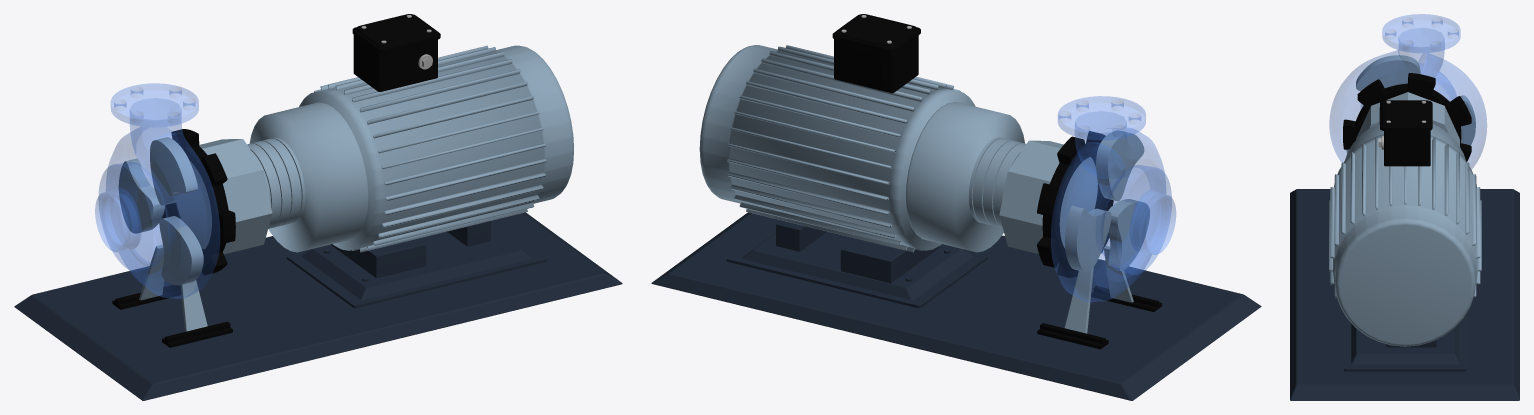
Rendered from 冷冻泵.glb.
3 views of the same model, side by side, from view 1: azimuth 30°, elevation 25°; view 2: azimuth 150°, elevation 25°; view 3: azimuth 270°, elevation 25° (orthographic). The views are drawn at different scales.
Parts seen in each view (by area): view 1: 立方体042, 柱体036, 柱体044, 柱体037, 立方体043, 柱体034, 立方体050, Gear001, 柱体035, 立方体047, 立方体049, 柱体044_1; view 2: 立方体042, 柱体036, 柱体044, 柱体037, 立方体043, 柱体034, 立方体050, Gear001, 柱体035, 立方体049, 柱体044_1, 立方体047; view 3: 立方体042, 柱体036, 柱体044, 立方体050, Gear001, 立方体043, 柱体034, 柱体037, 柱体044_1.
Boxes of the visible parts, x1,y1,x2,y2 form: 立方体042: [14, 212, 622, 400]; 柱体036: [299, 45, 573, 252]; 柱体044: [95, 83, 219, 298]; 柱体037: [249, 102, 368, 252]; 立方体043: [118, 137, 203, 285]; 柱体034: [176, 139, 272, 254]; 立方体050: [352, 14, 440, 91]; Gear001: [161, 129, 235, 275]; 柱体035: [247, 137, 305, 228]; 立方体047: [180, 280, 207, 331]; 立方体049: [139, 244, 164, 300]; 柱体044_1: [114, 87, 195, 123]; 立方体042: [651, 212, 1261, 400]; 柱体036: [699, 45, 975, 252]; 柱体044: [1051, 96, 1175, 301]; 柱体037: [906, 102, 1024, 252]; 立方体043: [1065, 130, 1149, 272]; 柱体034: [999, 140, 1097, 253]; 立方体050: [832, 14, 920, 93]; Gear001: [1037, 131, 1113, 277]; 柱体035: [969, 137, 1025, 227]; 立方体049: [1064, 267, 1093, 333]; 柱体044_1: [1059, 99, 1140, 136]; 立方体047: [1103, 246, 1133, 302]; 立方体042: [1290, 189, 1519, 400]; 柱体036: [1329, 134, 1481, 346]; 柱体044: [1329, 14, 1486, 169]; 立方体050: [1379, 100, 1432, 166]; Gear001: [1343, 73, 1471, 161]; 立方体043: [1346, 55, 1475, 152]; 柱体034: [1356, 92, 1459, 146]; 柱体037: [1345, 123, 1465, 159]; 柱体044_1: [1385, 17, 1458, 50].
Bounding box in the file's own units: 94.14 × 46.26 × 43.89.
